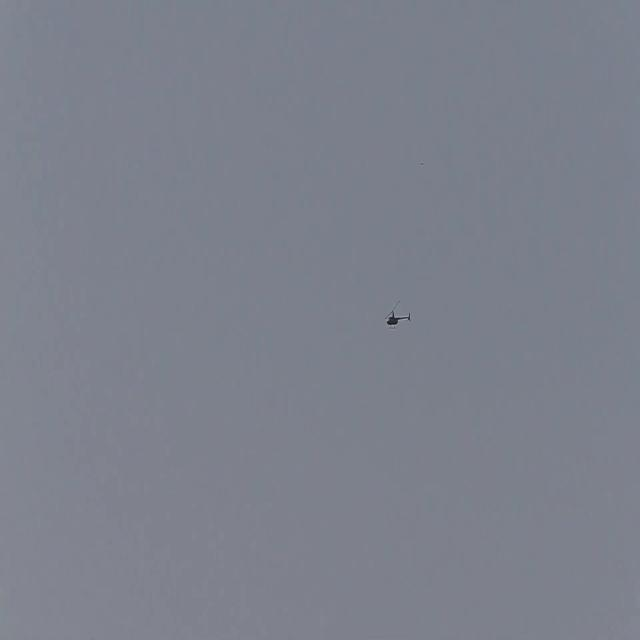CIV_HELO: (386, 310, 411, 330)
